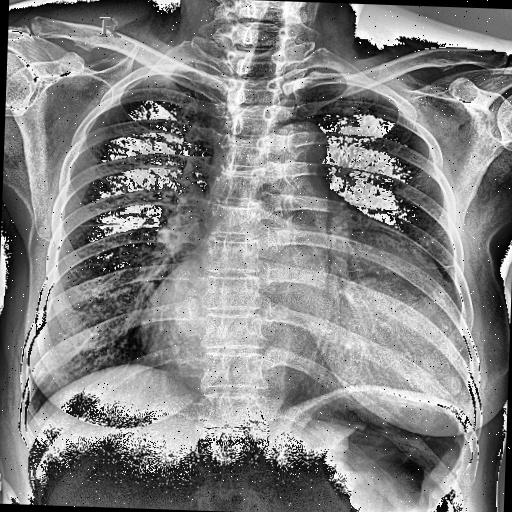13- Pulmonary fibrosis: (346, 254, 465, 286), (402, 256, 458, 278)
3- Cardiomegaly: (137, 180, 488, 420), (132, 238, 480, 448), (136, 230, 467, 394)
